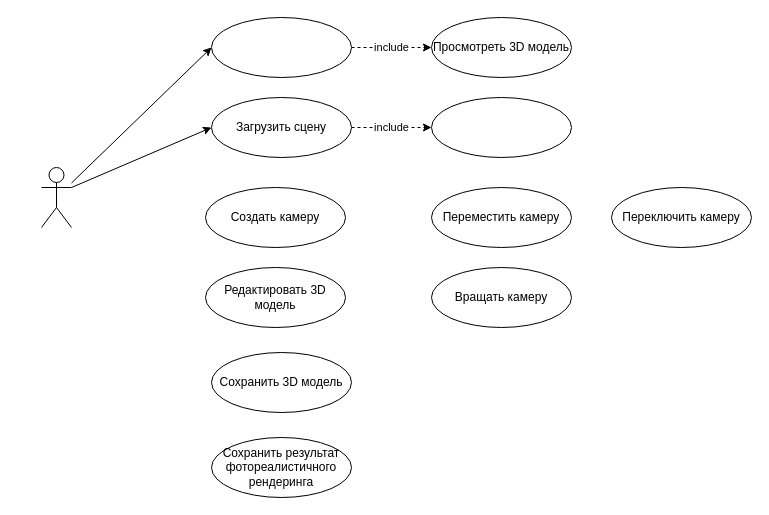
This 769x515 diagram has some shape labels left out. Here are the shapes that lost their labels. From the top down, the centre of each, then its label:
At pixel 281 47: "Загрузить 3D модель".
At pixel 501 127: "Просмотреть сцену".
At pixel 56 197: "Пользователь".
